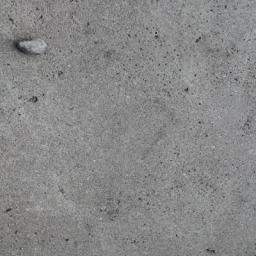FOD: (14, 36, 54, 59)
